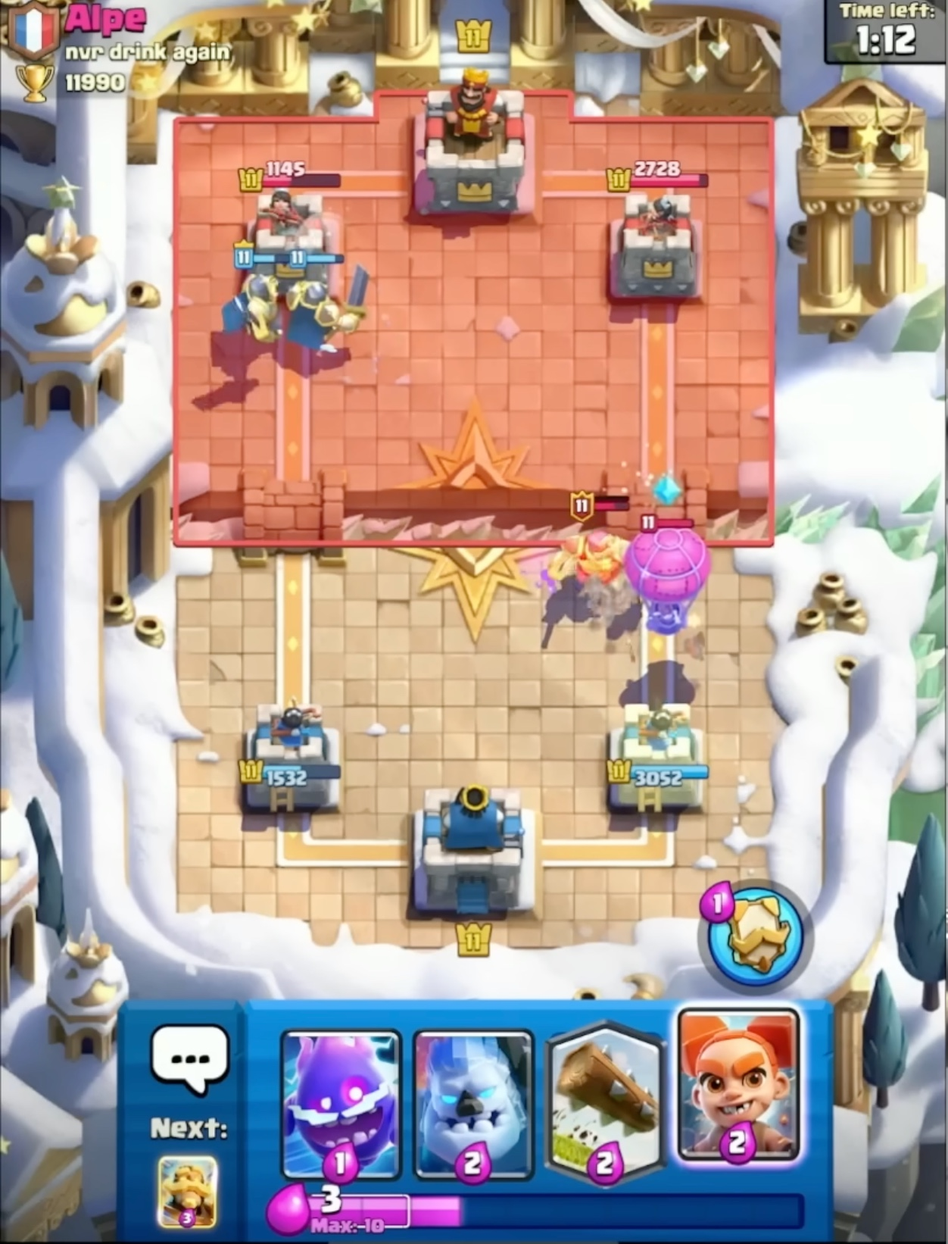balloon: (621, 512, 715, 653)
hero-knight: (543, 485, 648, 612)
